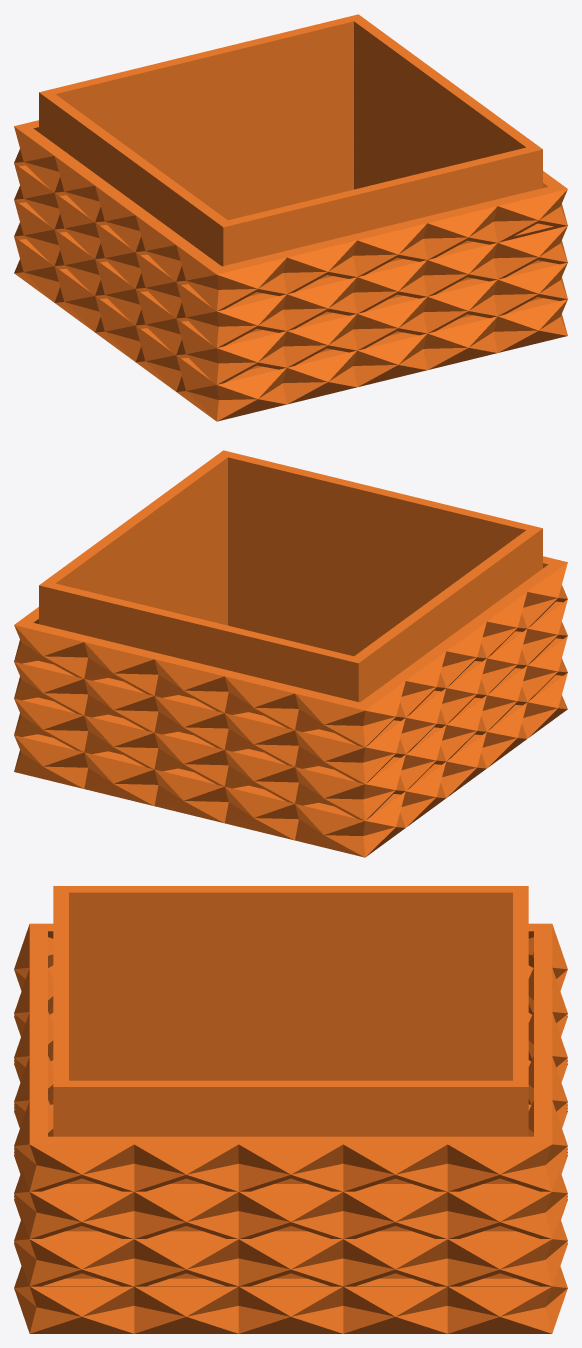
3 views of the same model, one above another, from view 1: azimuth 30°, elevation 25°; view 2: azimuth 150°, elevation 25°; view 3: azimuth 270°, elevation 25° (orthographic). The views are drawn at different scales.
Size of the model in its own units: 0.1916 by 0.0904 by 0.1916.
